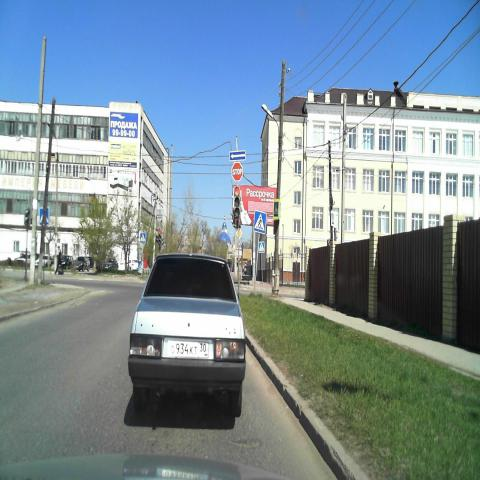5_7_2: (229, 150, 246, 161)
